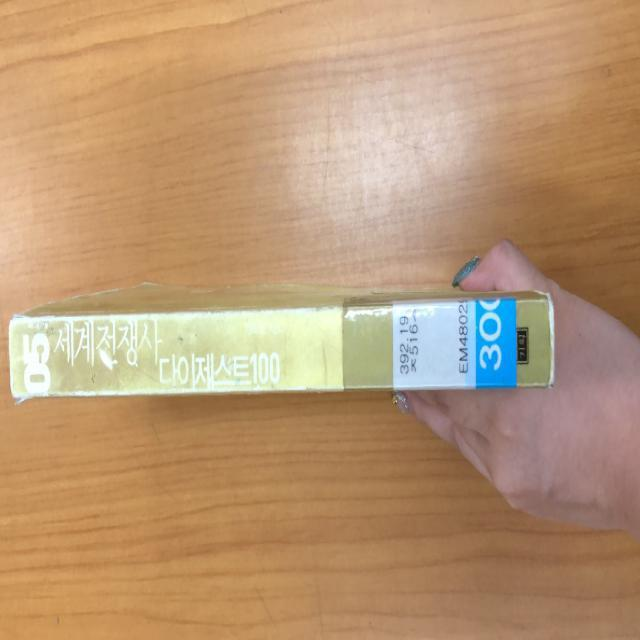Ripped: (5, 308, 57, 333), (7, 387, 50, 410)
Wornout: (531, 288, 560, 394), (189, 305, 237, 321), (316, 300, 343, 313), (304, 383, 327, 396)
